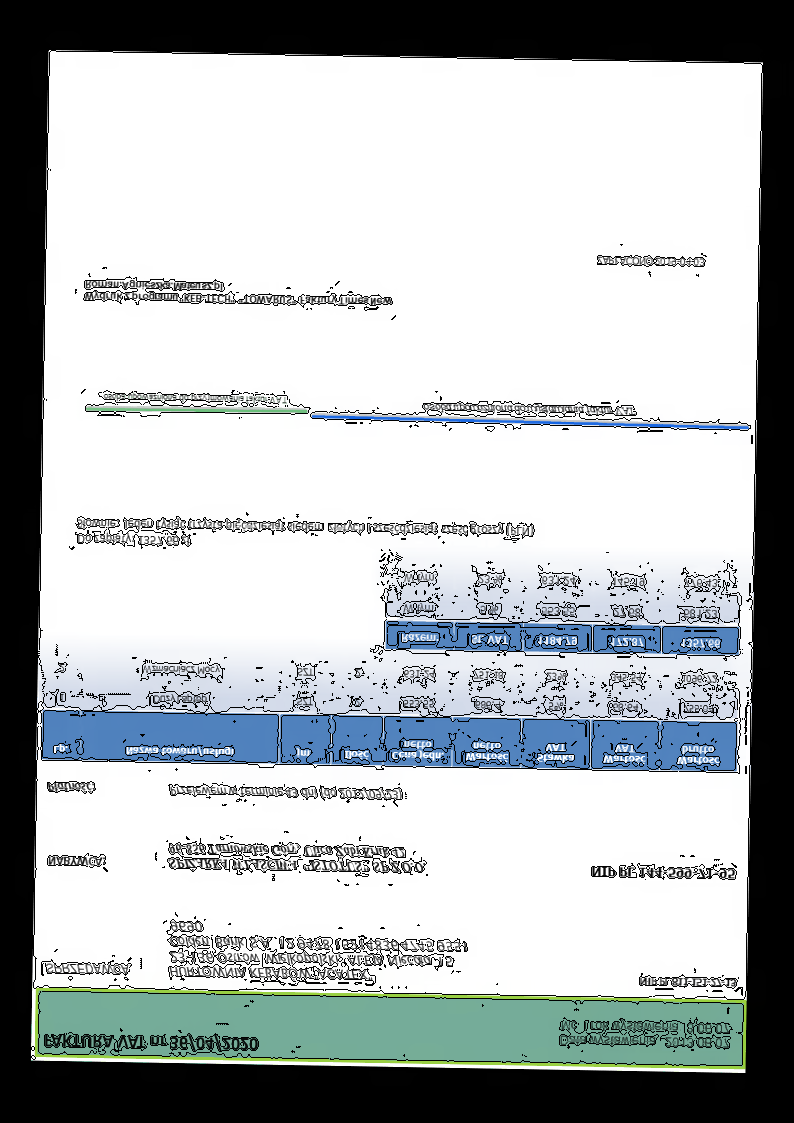Table: (40, 648, 740, 774), (384, 558, 741, 655)
TextBox: (166, 916, 470, 985), (74, 511, 535, 554), (83, 277, 395, 309), (166, 841, 428, 877), (556, 1016, 733, 1051), (41, 1030, 260, 1055), (166, 783, 403, 803), (420, 399, 637, 419), (102, 391, 289, 406), (589, 864, 736, 881), (594, 253, 707, 270), (43, 961, 133, 980), (636, 975, 738, 990), (45, 854, 108, 869), (45, 779, 97, 796)
